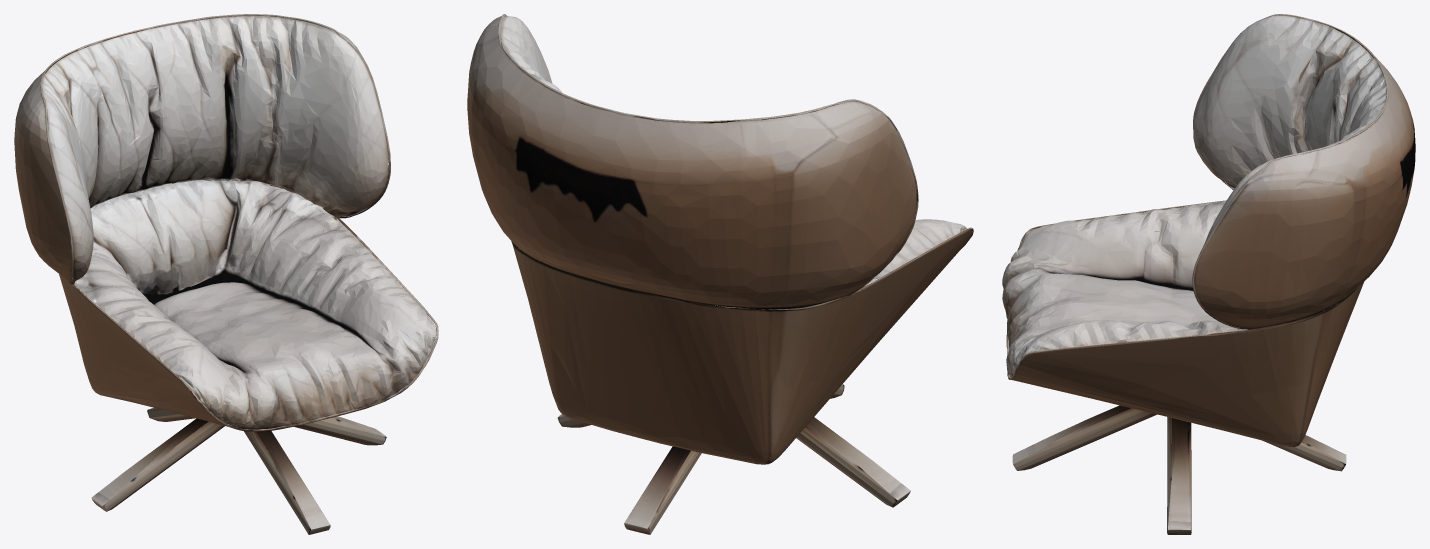
The model's file is edited_mesh.glb.
3 views of the same model, side by side, from view 1: azimuth 30°, elevation 25°; view 2: azimuth 150°, elevation 25°; view 3: azimuth 270°, elevation 25° (orthographic). The views are drawn at different scales.
Parts seen in each view (by area): view 1: solid_001_wire; view 2: solid_001_wire; view 3: solid_001_wire.
Part boxes in pixels (x1=…): solid_001_wire: x1=14, y1=14, x2=438, y2=534; solid_001_wire: x1=467, y1=14, x2=973, y2=534; solid_001_wire: x1=1002, y1=14, x2=1415, y2=534.
Bounding box in the file's own units: 1.24 × 1.34 × 1.31.
Materials: 1 (1 with a texture image).
